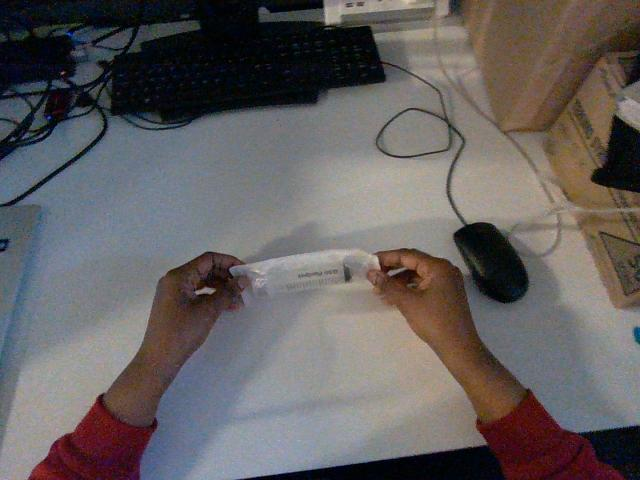syringe: (230, 249, 379, 299)
